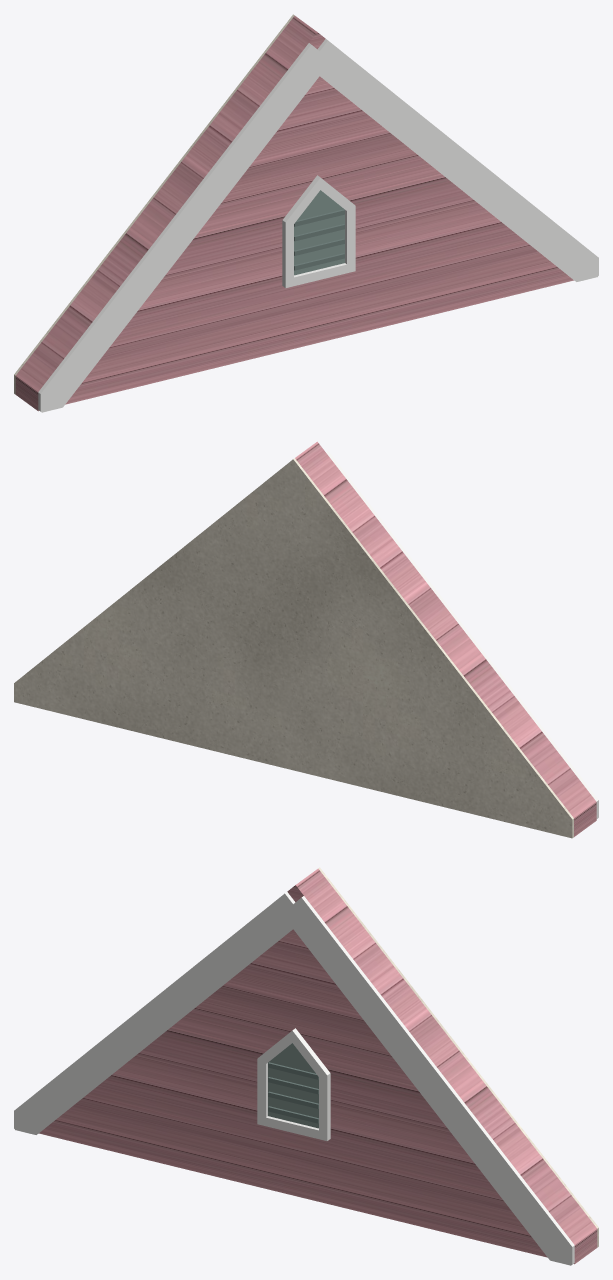
The model's file is gable_a.glb.
3 views of the same model, one above another, from view 1: azimuth 30°, elevation 25°; view 2: azimuth 150°, elevation 25°; view 3: azimuth 330°, elevation 25° (orthographic).
Parts seen in each view (by area): view 1: gable_a_siding_a, gable_a_trim, gable_a_shutter, gable_a_shutter_dark, gable_a_plaster; view 2: gable_a_plaster, gable_a_siding_a, gable_a_trim; view 3: gable_a_siding_a, gable_a_trim, gable_a_shutter, gable_a_shutter_dark, gable_a_plaster.
Part boxes in pixels (x1,y1,x2,y2): gable_a_siding_a: [15, 15, 573, 411]; gable_a_trim: [38, 39, 598, 412]; gable_a_shutter: [294, 190, 344, 275]; gable_a_shutter_dark: [294, 209, 344, 270]; gable_a_plaster: [14, 14, 294, 394]; gable_a_plaster: [14, 458, 573, 838]; gable_a_siding_a: [295, 441, 596, 836]; gable_a_trim: [326, 451, 598, 818]; gable_a_siding_a: [39, 868, 597, 1264]; gable_a_trim: [14, 892, 574, 1265]; gable_a_shutter: [268, 1043, 318, 1128]; gable_a_shutter_dark: [268, 1062, 318, 1123]; gable_a_plaster: [318, 867, 598, 1247].
Bounding box in the file's own units: 4 × 2.13 × 0.34.
Materials: 5 (2 with a texture image).
